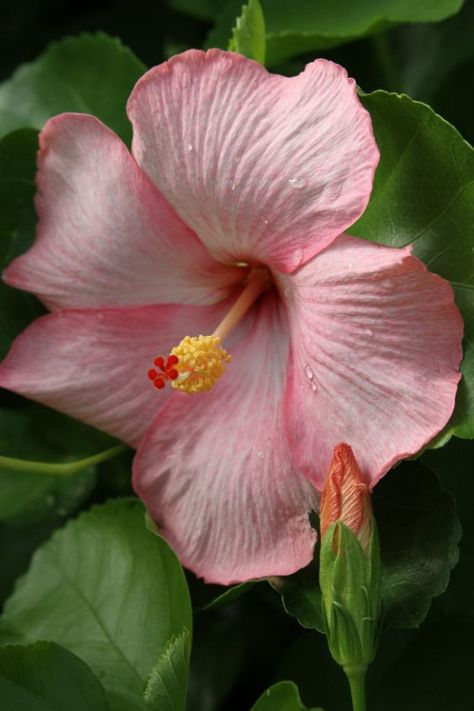Hibiscus: (12, 46, 462, 587), (262, 440, 418, 701)
